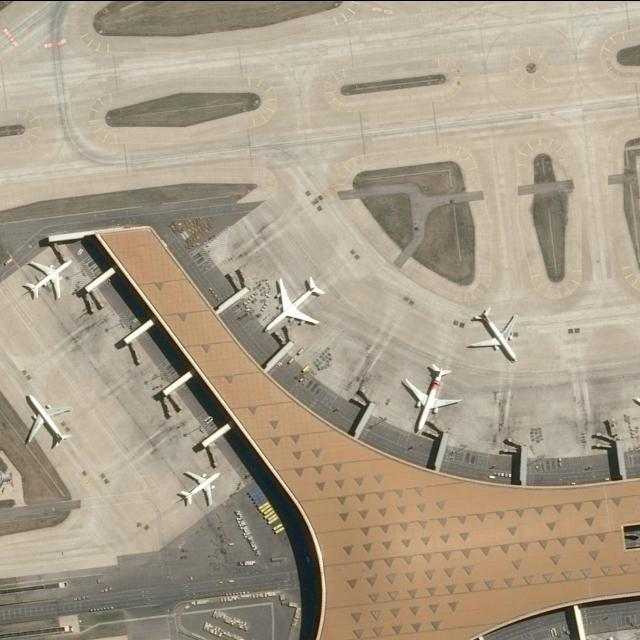Aircraft: (261, 271, 329, 339), (401, 360, 457, 434), (18, 390, 72, 452), (469, 304, 520, 366), (20, 257, 74, 305), (173, 468, 221, 510)
